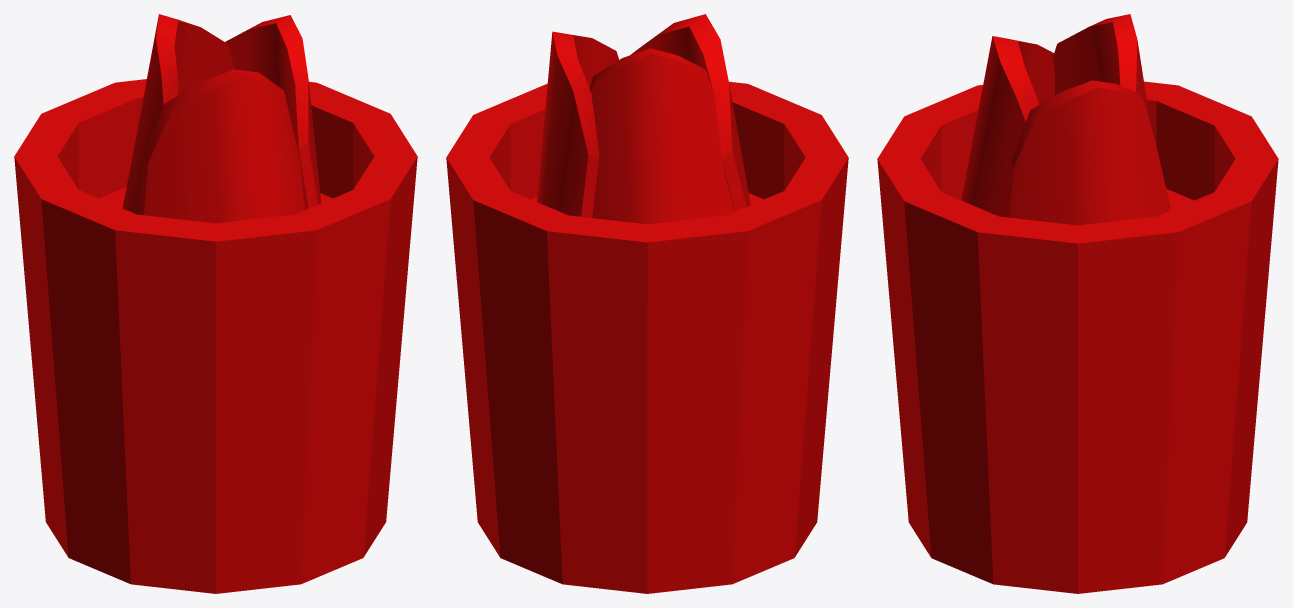
The model's file is flowerpot.fbx.
The picture shows the model from 3 angles, left to right: view 1: azimuth 30°, elevation 25°; view 2: azimuth 150°, elevation 25°; view 3: azimuth 270°, elevation 25°; orthographic projection.
Parts seen in each view (by area): view 1: pCylinder1, pCube19, pCube21, pCube20; view 2: pCylinder1, pCube21, pCube20, pCube19; view 3: pCylinder1, pCube20, pCube19, pCube21.
Boxes of the visible parts, x1=… form: pCylinder1: x1=14, y1=79, x2=417, y2=593; pCube19: x1=139, y1=69, x2=305, y2=223; pCube21: x1=122, y1=14, x2=233, y2=214; pCube20: x1=225, y1=15, x2=321, y2=209; pCylinder1: x1=446, y1=81, x2=848, y2=593; pCube21: x1=589, y1=48, x2=734, y2=224; pCube20: x1=537, y1=31, x2=618, y2=217; pCube19: x1=630, y1=14, x2=750, y2=211; pCylinder1: x1=877, y1=81, x2=1278, y2=593; pCube20: x1=1005, y1=80, x2=1170, y2=225; pCube19: x1=961, y1=36, x2=1055, y2=216; pCube21: x1=1053, y1=14, x2=1150, y2=124.
Bounding box in the file's own units: 0.3465 × 0.4703 × 0.3465.
